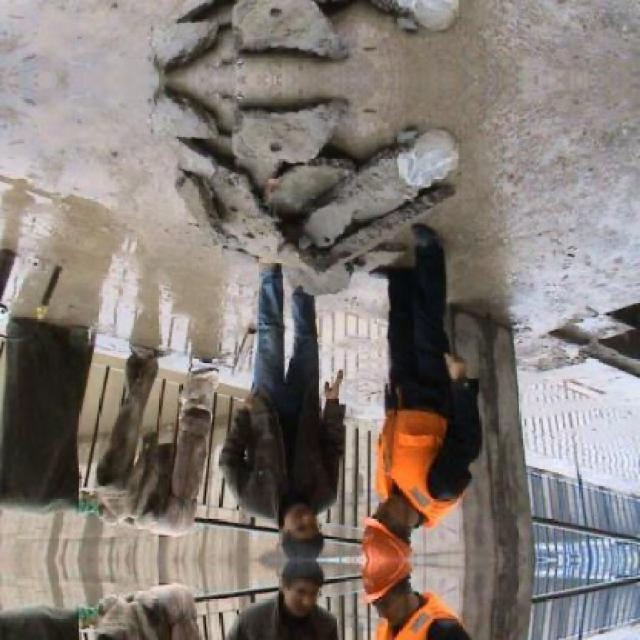con casco: (373, 520, 428, 582)
sin casco: (282, 480, 336, 563)
